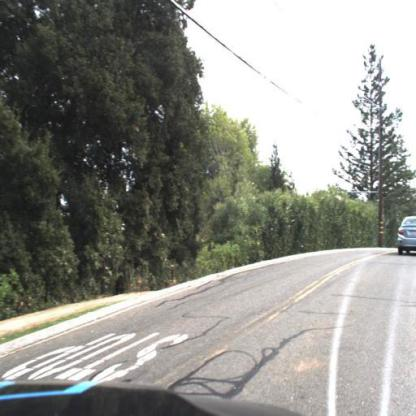car: (391, 211, 416, 259)
